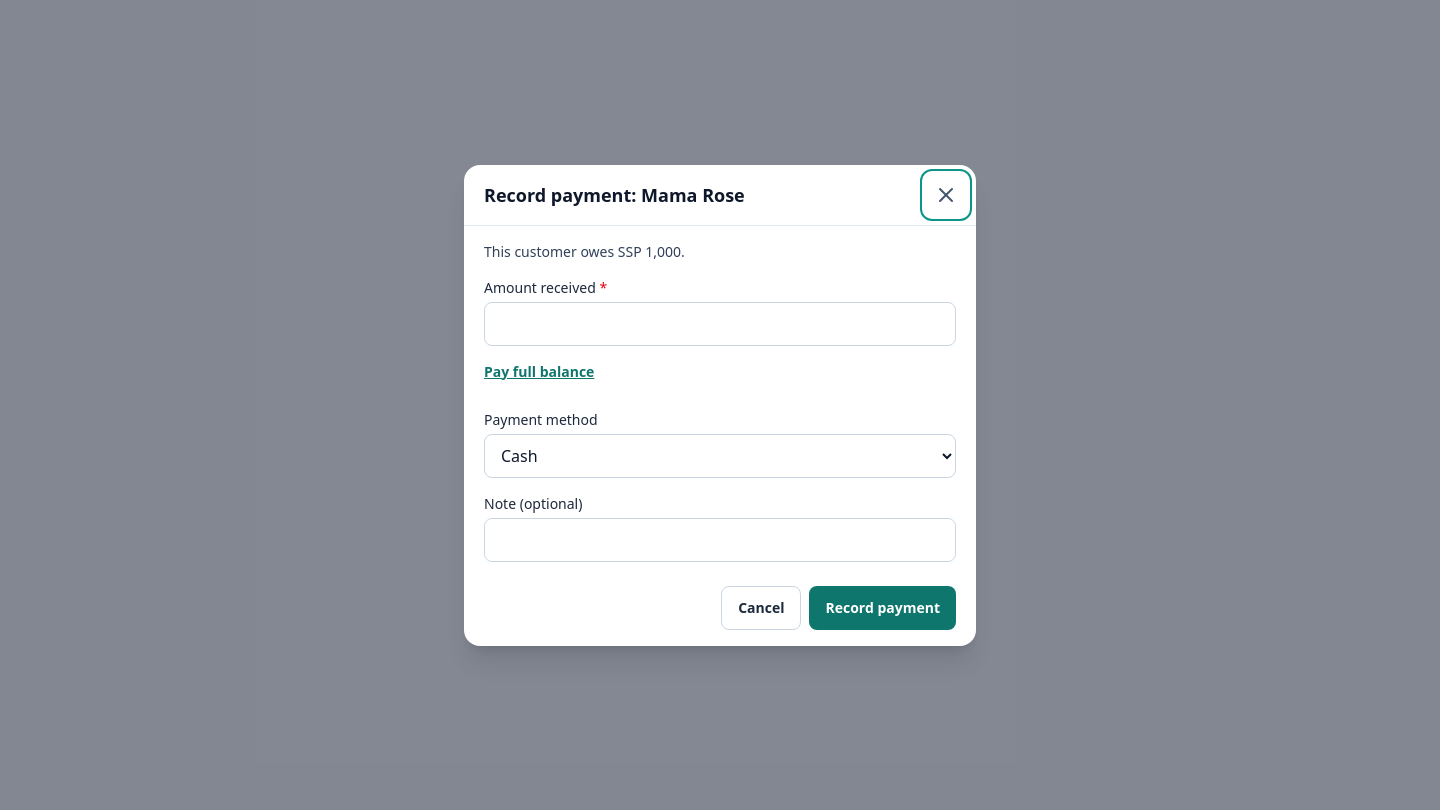
Test: RecordPaymentModal › can fill in the full balance
Click the button "Pay full balance".
click(539, 372)  # box top-left (484, 350), bottom-right (594, 394)
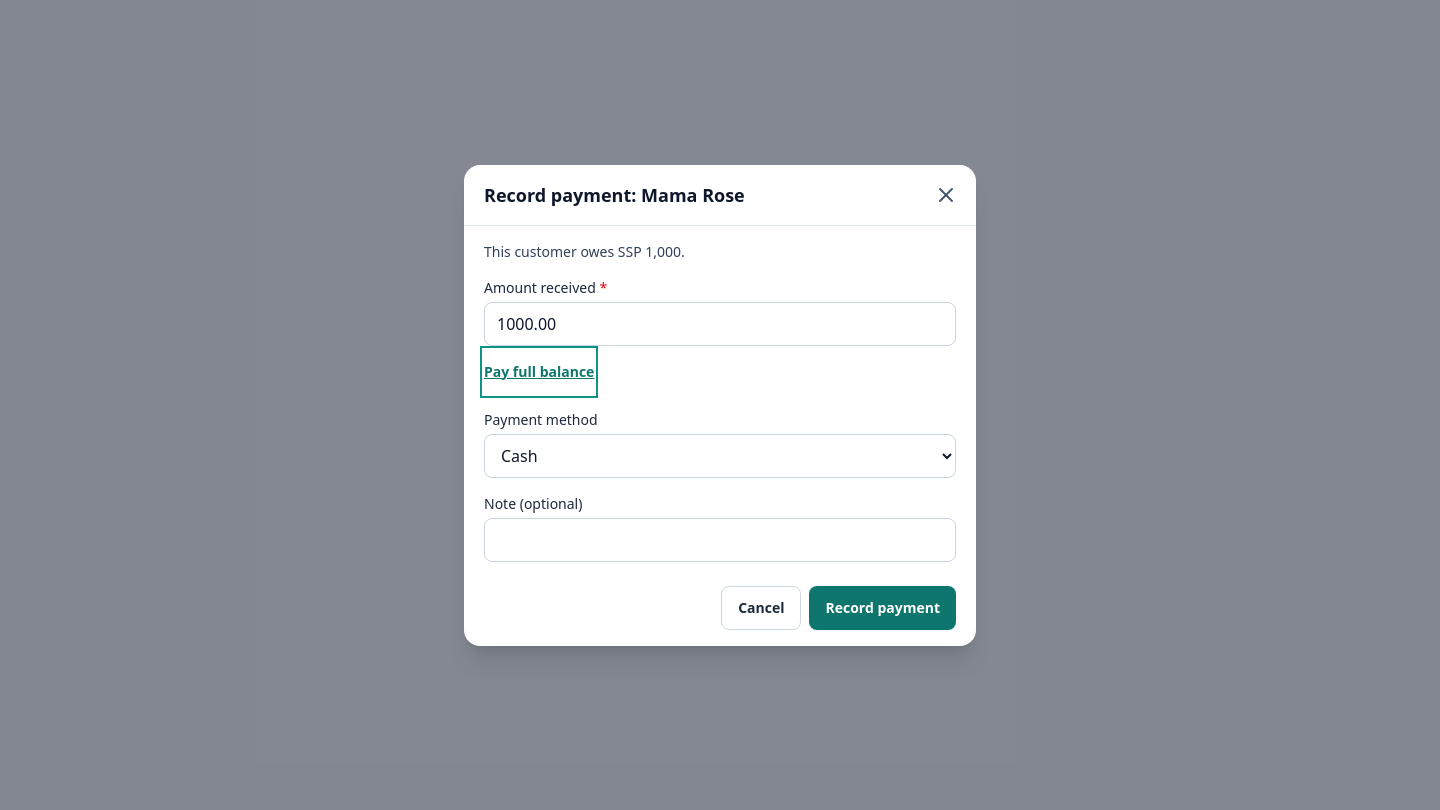
Result: the field labelled "Amount received *" holds "1000.00" at top-left (484, 302), bottom-right (956, 346)
